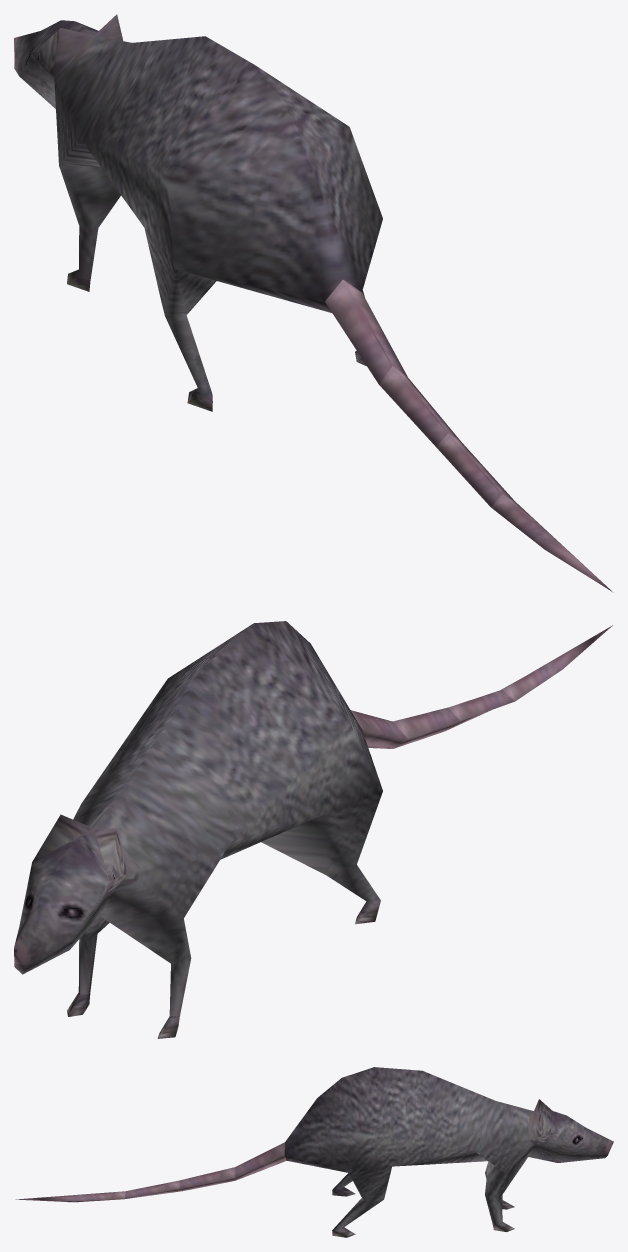
The model's file is rat.glb.
3 renders of one model, top to bottom at view 1: azimuth 30°, elevation 25°; view 2: azimuth 150°, elevation 25°; view 3: azimuth 270°, elevation 25°, orthographic. The views are drawn at different scales.
Parts seen in each view (by area): view 1: Rat; view 2: Rat; view 3: Rat.
Part boxes in pixels (box(x1,y1,x2,y2)): Rat: box(14, 14, 613, 592); Rat: box(14, 621, 612, 1038); Rat: box(15, 1067, 613, 1237).
Size of the model in its own units: 2.84 by 3.97 by 14.19.
1 material, 1 textured.
